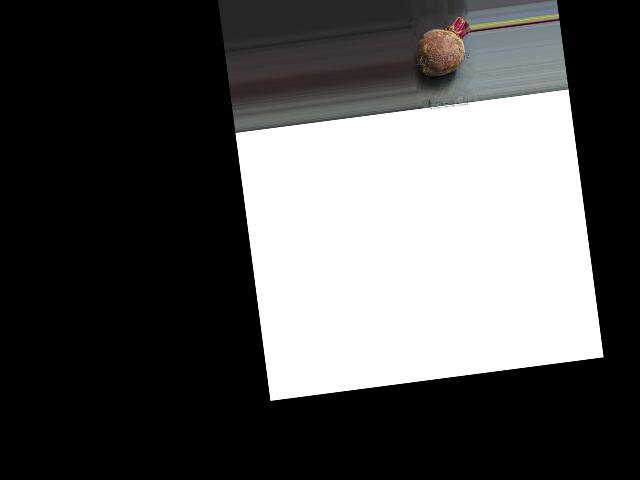beet: (413, 16, 475, 78)
